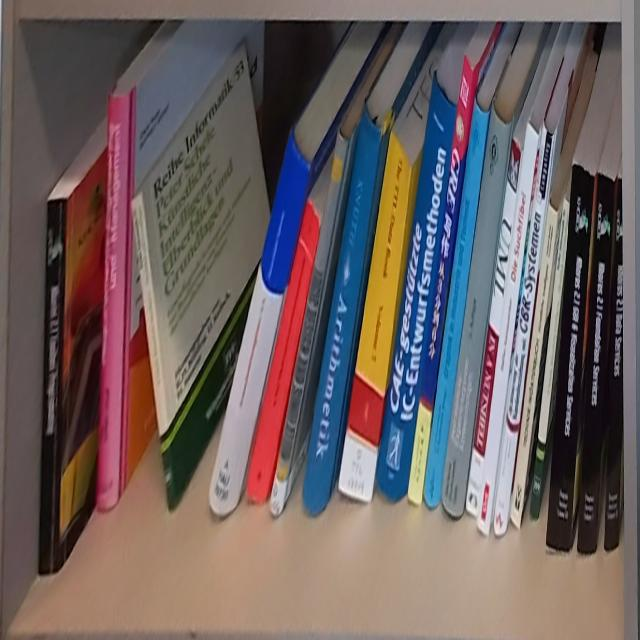Book Spine: (209, 130, 314, 515), (376, 77, 458, 503), (302, 103, 383, 517), (405, 55, 475, 508), (269, 131, 350, 516), (440, 102, 511, 520), (338, 132, 413, 503), (423, 96, 490, 510), (493, 118, 556, 539), (477, 122, 540, 538), (247, 202, 321, 503), (465, 135, 522, 517), (546, 163, 595, 557), (510, 204, 558, 529), (96, 90, 133, 511), (577, 172, 616, 556), (132, 194, 177, 510), (529, 197, 570, 524), (38, 197, 68, 577), (605, 178, 623, 553)
